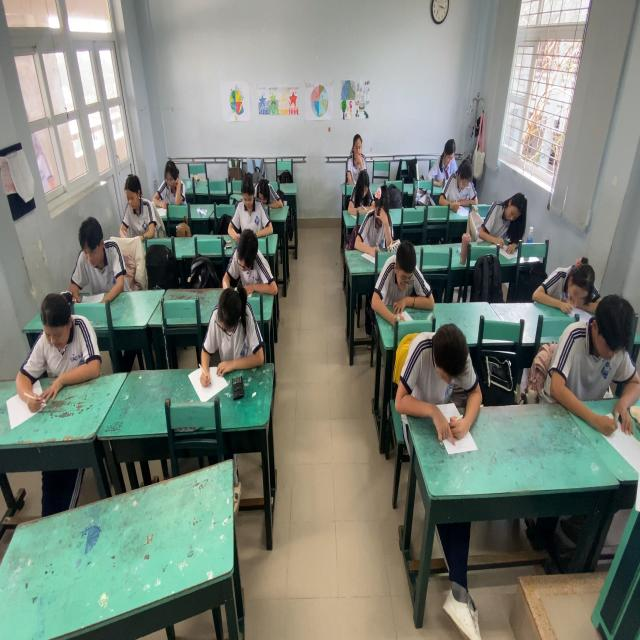not_cheating: (399, 305, 487, 427), (553, 292, 640, 402), (28, 292, 92, 372), (374, 240, 436, 319), (68, 215, 124, 302), (216, 226, 280, 302), (208, 288, 264, 354), (473, 178, 529, 243), (111, 171, 154, 240), (539, 250, 591, 302), (362, 182, 397, 250), (232, 167, 270, 229), (438, 157, 484, 208), (428, 133, 459, 189), (344, 129, 370, 185), (344, 164, 376, 208), (154, 164, 185, 208), (255, 175, 281, 205)
